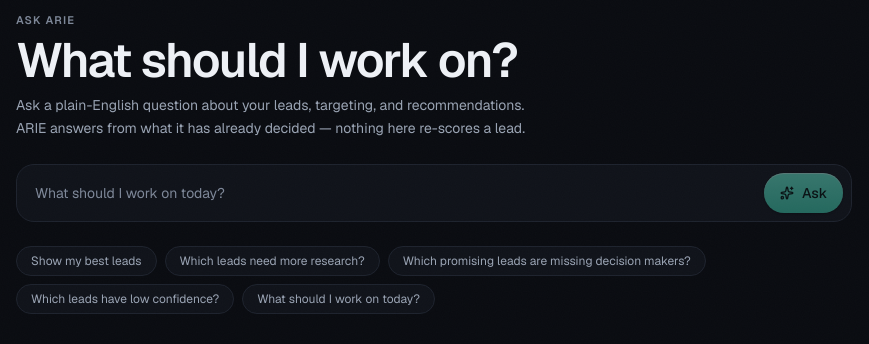
it: AskArieView › renders an empty result with no lead cards
Click the button "Which leads have low confidence?" at (125, 299), box [16, 284, 234, 314]
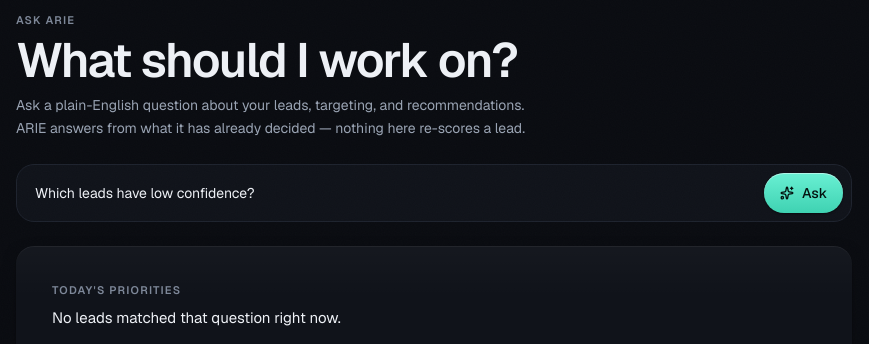
Check: the text "No leads matched that question right now." is shown, box [52, 308, 341, 327]
